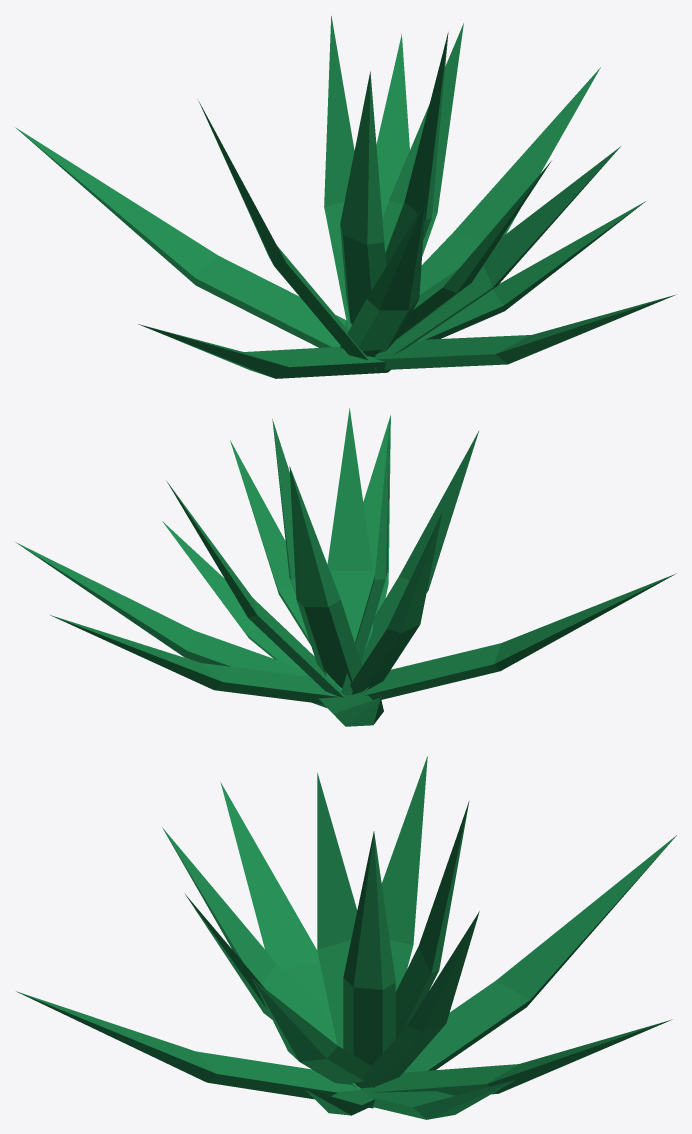
The model's file is Grass_39.fbx.
The picture shows the model from 3 angles, top to bottom: view 1: azimuth 30°, elevation 25°; view 2: azimuth 150°, elevation 25°; view 3: azimuth 270°, elevation 25°; orthographic projection. The views are drawn at different scales.
Visible parts, largest first — view 1: Grass_39; view 2: Grass_39; view 3: Grass_39.
Boxes of the visible parts, bbox=[...] form: Grass_39: bbox=[15, 16, 675, 378]; Grass_39: bbox=[15, 408, 676, 726]; Grass_39: bbox=[16, 756, 676, 1119].
Bounding box in the file's own units: 108 × 53.83 × 103.
